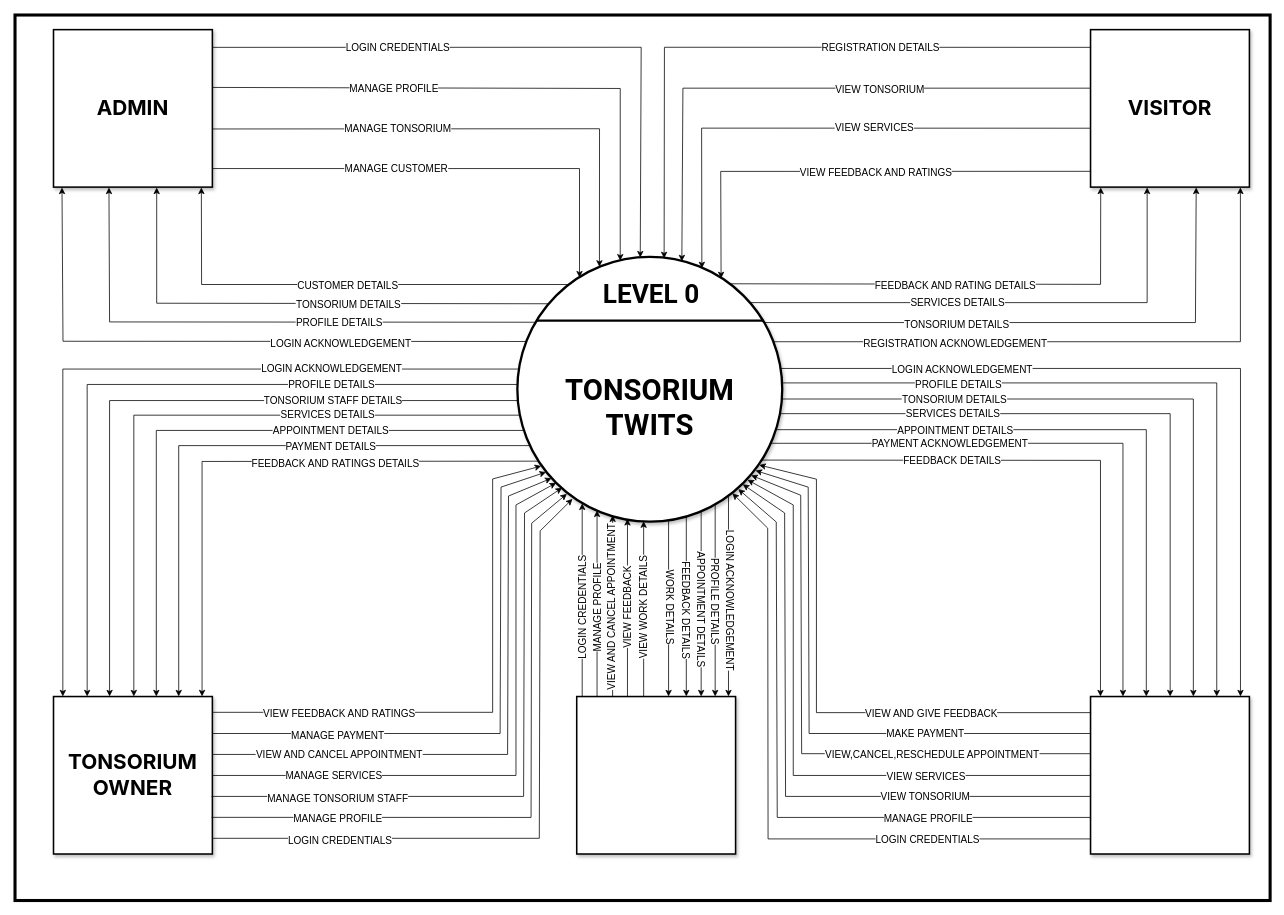
Some shapes in this 1284 by 915 pixel diagram are drawn without their labels. Here are the shapes that lost their labels. From the top down, the centre of each, then its label:
(656,776): TONSORIUM STAFF
(1170,776): CUSTOMER
